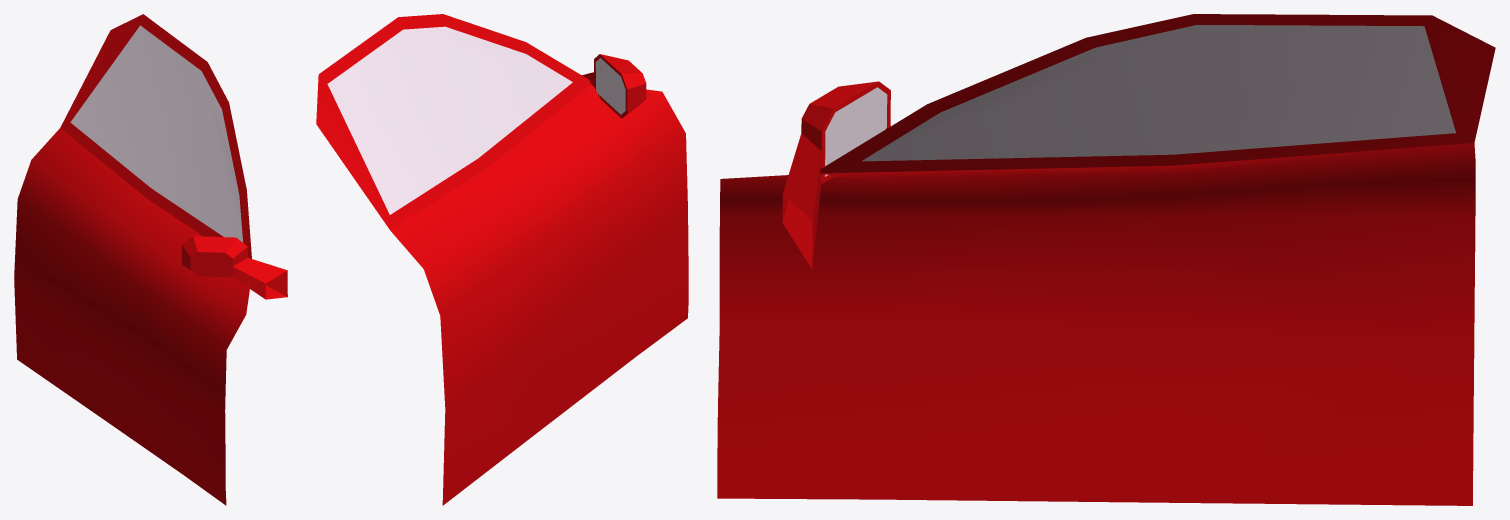
The model's file is right_door.gltf.
The picture shows the model from 3 angles, left to right: view 1: azimuth 30°, elevation 25°; view 2: azimuth 150°, elevation 25°; view 3: azimuth 270°, elevation 25°; orthographic projection. The views are drawn at different scales.
Visible parts, largest first — view 1: right_doors; view 2: right_doors; view 3: right_doors.
Part boxes in pixels (x1=…): right_doors: x1=14, y1=14, x2=287, y2=505; right_doors: x1=316, y1=14, x2=688, y2=505; right_doors: x1=717, y1=14, x2=1495, y2=505.
Bounding box in the file's own units: 0.491 × 1.3 × 1.55.
